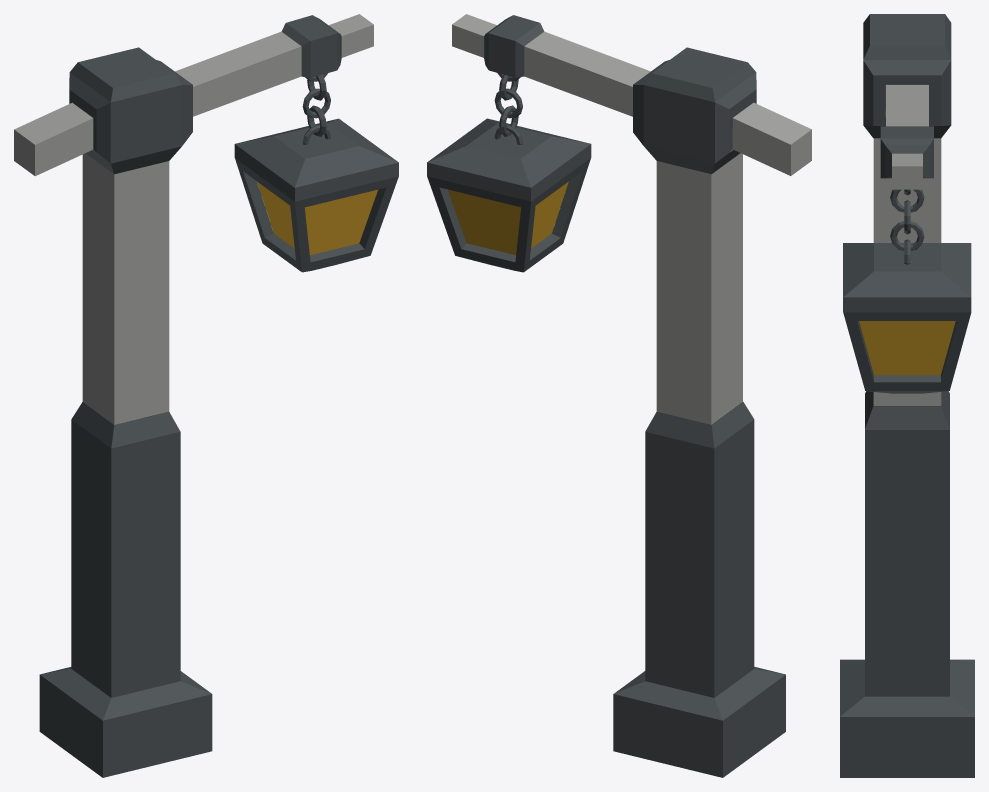
Rendered from Light_pole_2.glb.
The picture shows the model from 3 angles, left to right: view 1: azimuth 30°, elevation 25°; view 2: azimuth 150°, elevation 25°; view 3: azimuth 270°, elevation 25°; orthographic projection. The views are drawn at different scales.
Visible parts, largest first — view 1: Light pole 2; view 2: Light pole 2; view 3: Light pole 2.
Part boxes in pixels (bbox=[...]): Light pole 2: bbox=[14, 14, 398, 777]; Light pole 2: bbox=[427, 14, 811, 777]; Light pole 2: bbox=[840, 14, 974, 777].
Bounding box in the file's own units: 1.21 × 2.27 × 0.3857.
